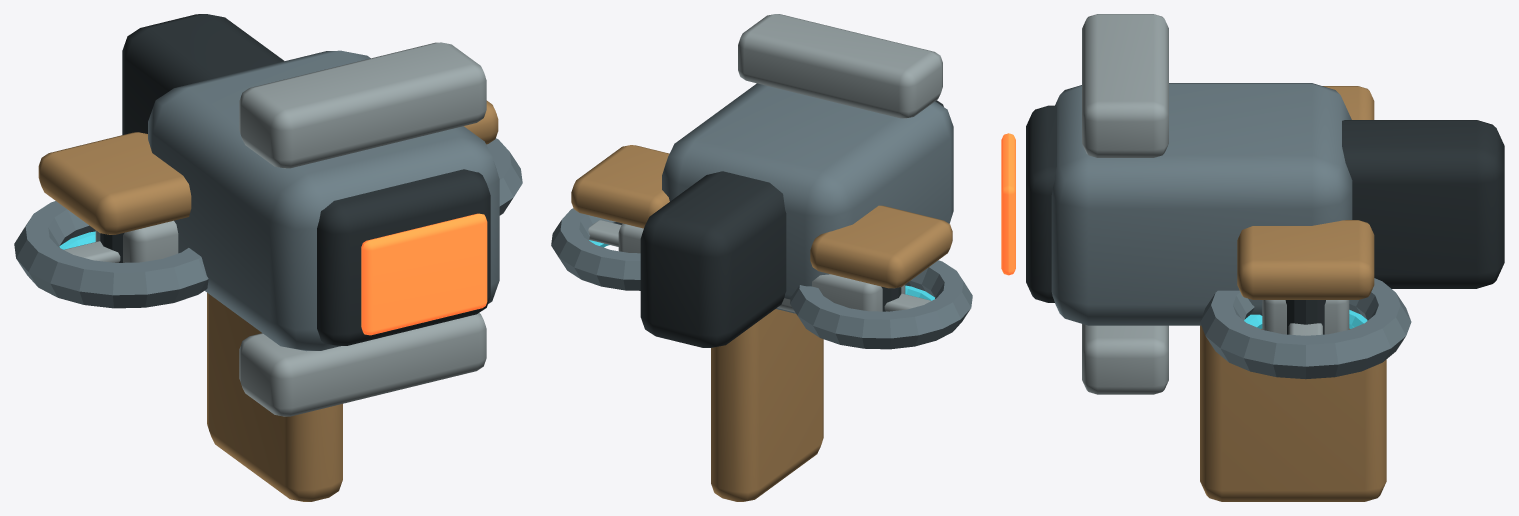
File: interceptor.glb
3 renders of one model, left to right at view 1: azimuth 30°, elevation 25°; view 2: azimuth 150°, elevation 25°; view 3: azimuth 270°, elevation 25°, orthographic. The views are drawn at different scales.
Parts seen in each view (by area): view 1: Assembly_Ceramic graphite.001, Assembly_Service enamel.001, Assembly_Recessed induction hardware.001, ShutterTop, ShutterBottom, Optic, Assembly_Exposed machined edges.001, VaneLeft; view 2: Assembly_Ceramic graphite.001, Assembly_Service enamel.001, Assembly_Recessed induction hardware.001, ShutterTop, Assembly_Exposed machined edges.001, VaneRight, VaneLeft; view 3: Assembly_Ceramic graphite.001, Assembly_Service enamel.001, Assembly_Recessed induction hardware.001, ShutterTop, ShutterBottom, Optic, Assembly_Exposed machined edges.001.
Boxes of the visible parts, box(x1,y1,x2,y2) form: Assembly_Ceramic graphite.001: box(14, 50, 522, 351); Assembly_Service enamel.001: box(38, 100, 498, 501); Assembly_Recessed induction hardware.001: box(100, 14, 490, 346); ShutterTop: box(239, 42, 486, 168); ShutterBottom: box(239, 313, 486, 416); Optic: box(361, 213, 487, 335); Assembly_Exposed machined edges.001: box(95, 220, 178, 262); VaneLeft: box(64, 241, 120, 262); Assembly_Ceramic graphite.001: box(551, 83, 972, 349); Assembly_Service enamel.001: box(571, 145, 952, 501); Assembly_Recessed induction hardware.001: box(640, 100, 943, 347); ShutterTop: box(738, 14, 942, 118); Assembly_Exposed machined edges.001: box(618, 223, 905, 312); VaneRight: box(588, 220, 621, 246); VaneLeft: box(884, 293, 931, 311); Assembly_Ceramic graphite.001: box(1051, 83, 1411, 379); Assembly_Service enamel.001: box(1200, 86, 1386, 501); Assembly_Recessed induction hardware.001: box(1026, 105, 1504, 334); ShutterTop: box(1082, 14, 1168, 157); ShutterBottom: box(1082, 324, 1168, 394); Optic: box(1001, 133, 1015, 275); Assembly_Exposed machined edges.001: box(1262, 300, 1349, 334).
Size of the model in its own units: 0.85 by 0.78 by 0.81.
